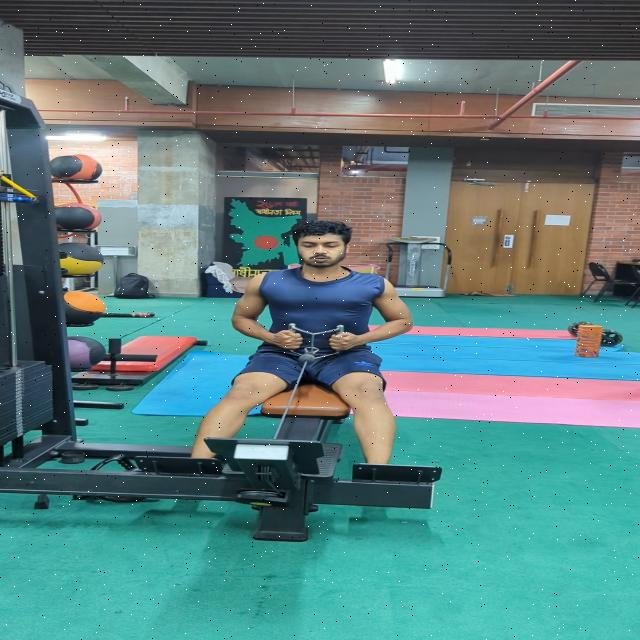Normal_RowingMachineExercise: (188, 219, 413, 464)
